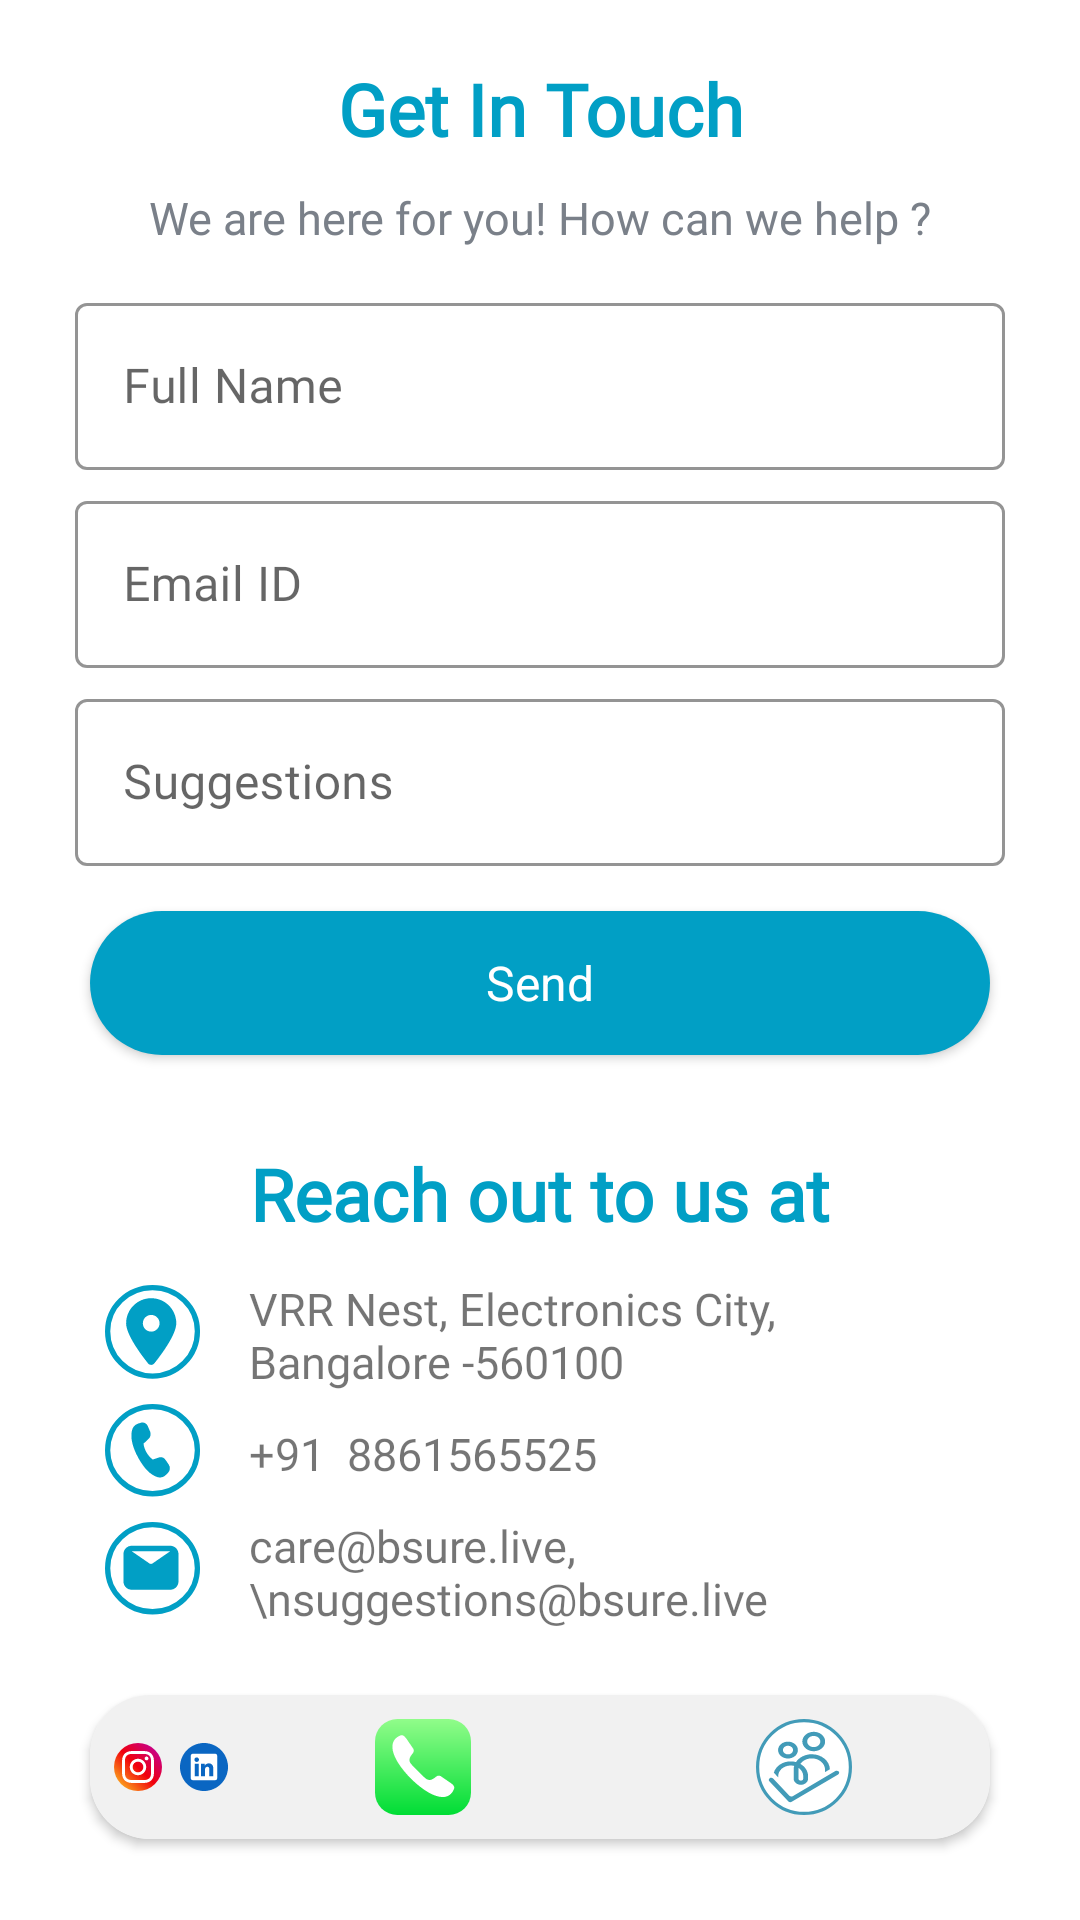

Point at icon controls on the screen. Image size 1080 x 1920, points as [x,y].
Call: [423,1767]
